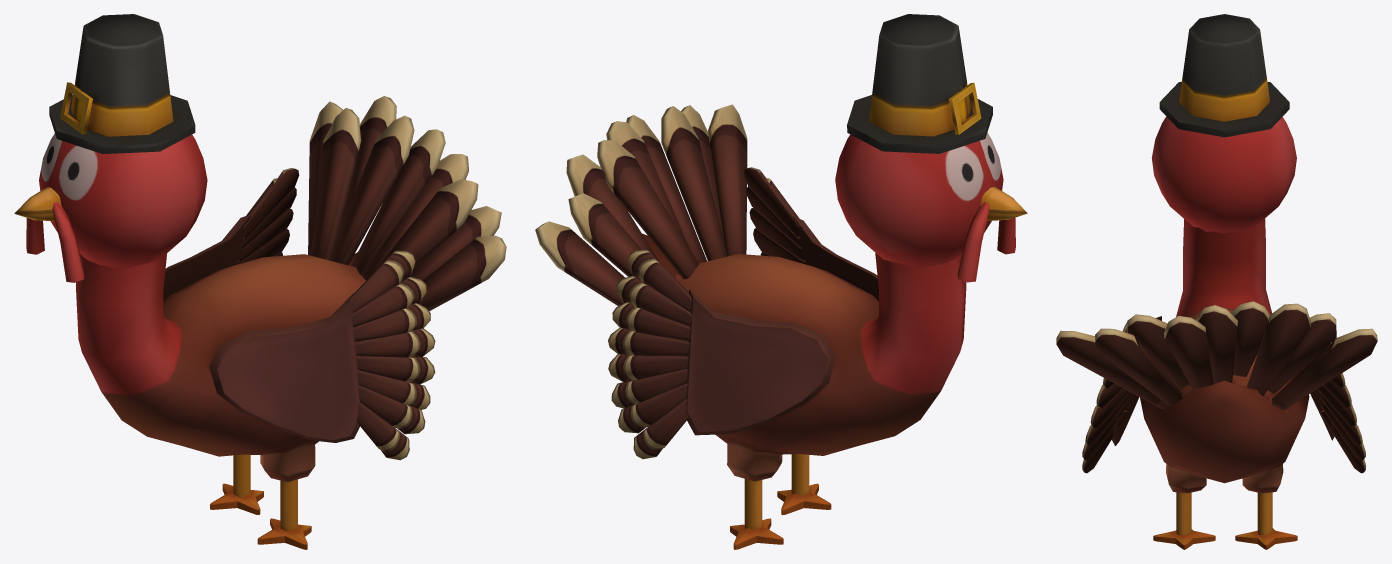
Rendered from Thanksgiving_Chicken.fbx.
3 renders of one model, left to right at view 1: azimuth 30°, elevation 25°; view 2: azimuth 150°, elevation 25°; view 3: azimuth 270°, elevation 25°, orthographic. The views are drawn at different scales.
Visible parts, largest first — view 1: Thanksgiving_Chicken; view 2: Thanksgiving_Chicken; view 3: Thanksgiving_Chicken.
Part boxes in pixels (x1,y1,x2,y2): Thanksgiving_Chicken: (14,14,506,549); Thanksgiving_Chicken: (535,14,1027,549); Thanksgiving_Chicken: (1056,14,1377,549).
Bounding box in the file's own units: 209 × 245 × 158.
